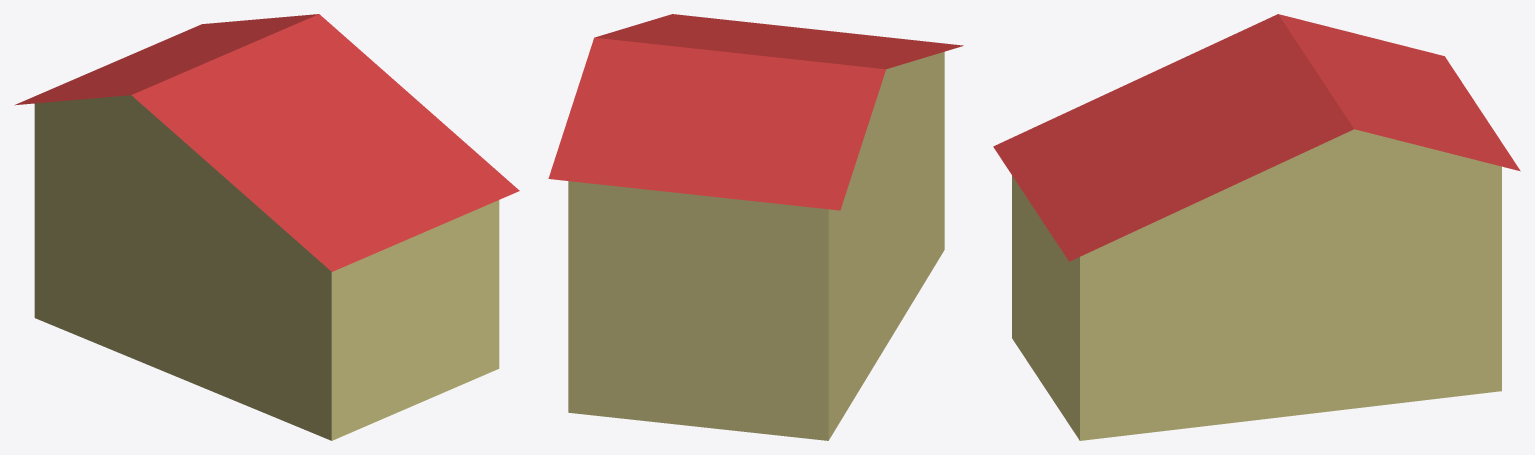
3 views of the same model, side by side, from view 1: azimuth 30°, elevation 25°; view 2: azimuth 150°, elevation 25°; view 3: azimuth 270°, elevation 25° (orthographic). The views are drawn at different scales.
Size of the model in its own units: 12.93 by 17.12 by 10.24.
